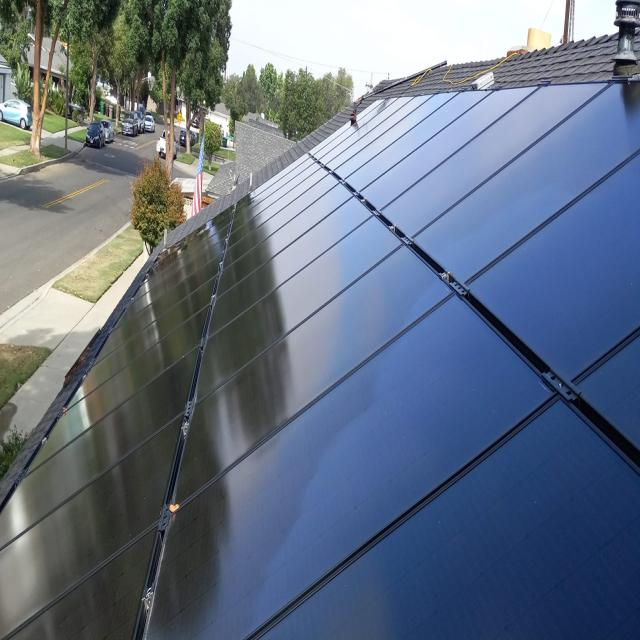clean-solar-panel: (148, 83, 640, 637), (0, 225, 220, 637)
